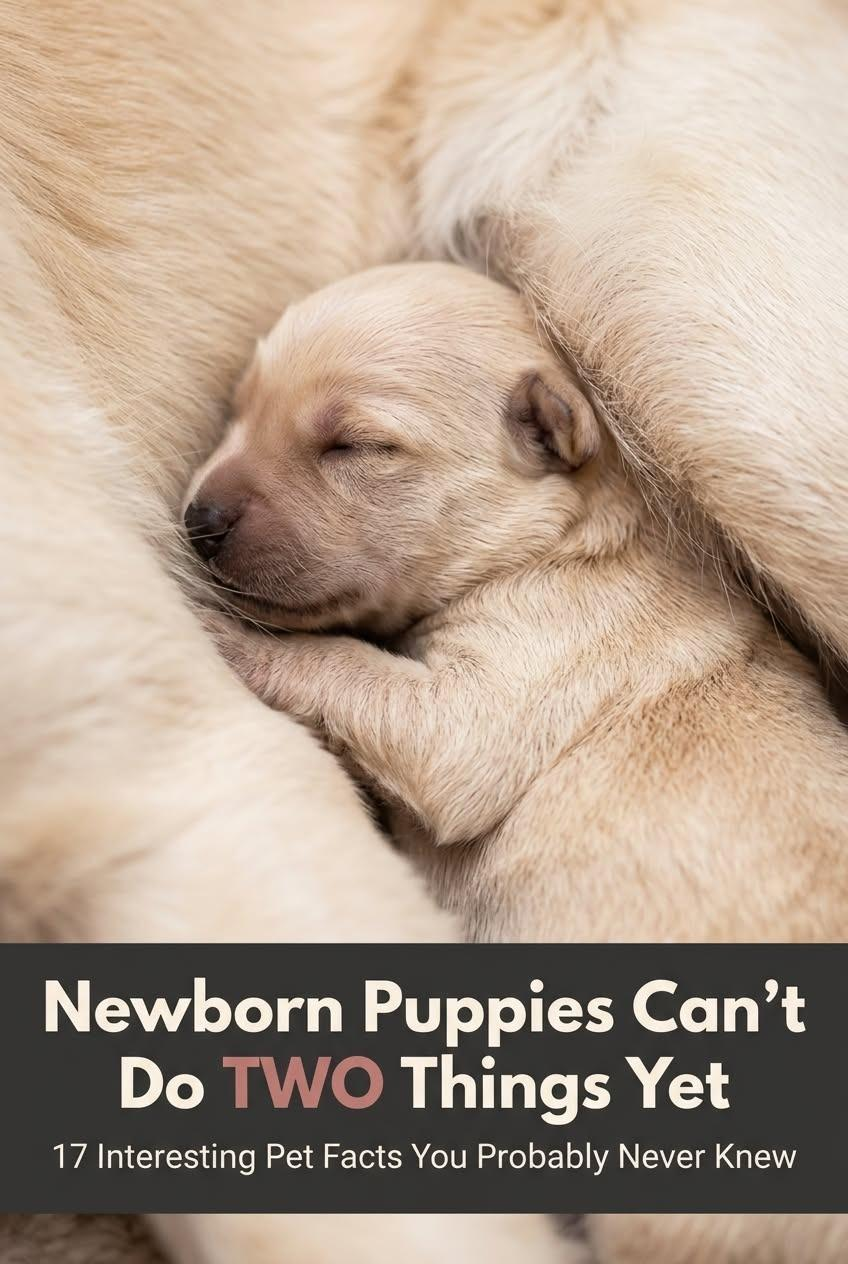adult_dog: (0, 0, 848, 1264)
puppy-dog: (179, 258, 848, 947)
